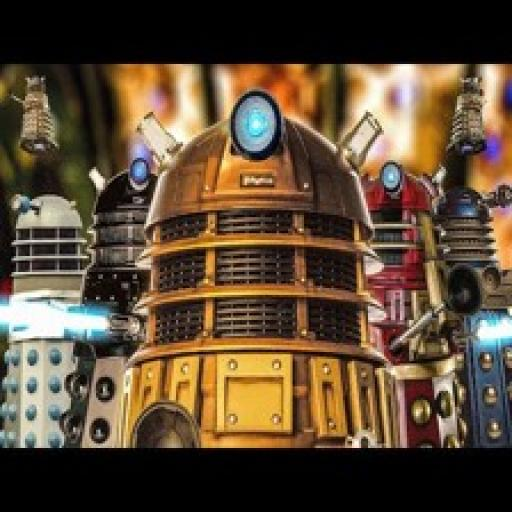dalek: (108, 94, 400, 451), (348, 162, 474, 448), (62, 158, 156, 449), (436, 185, 512, 448), (1, 184, 76, 448), (11, 74, 64, 168), (448, 74, 492, 156)
